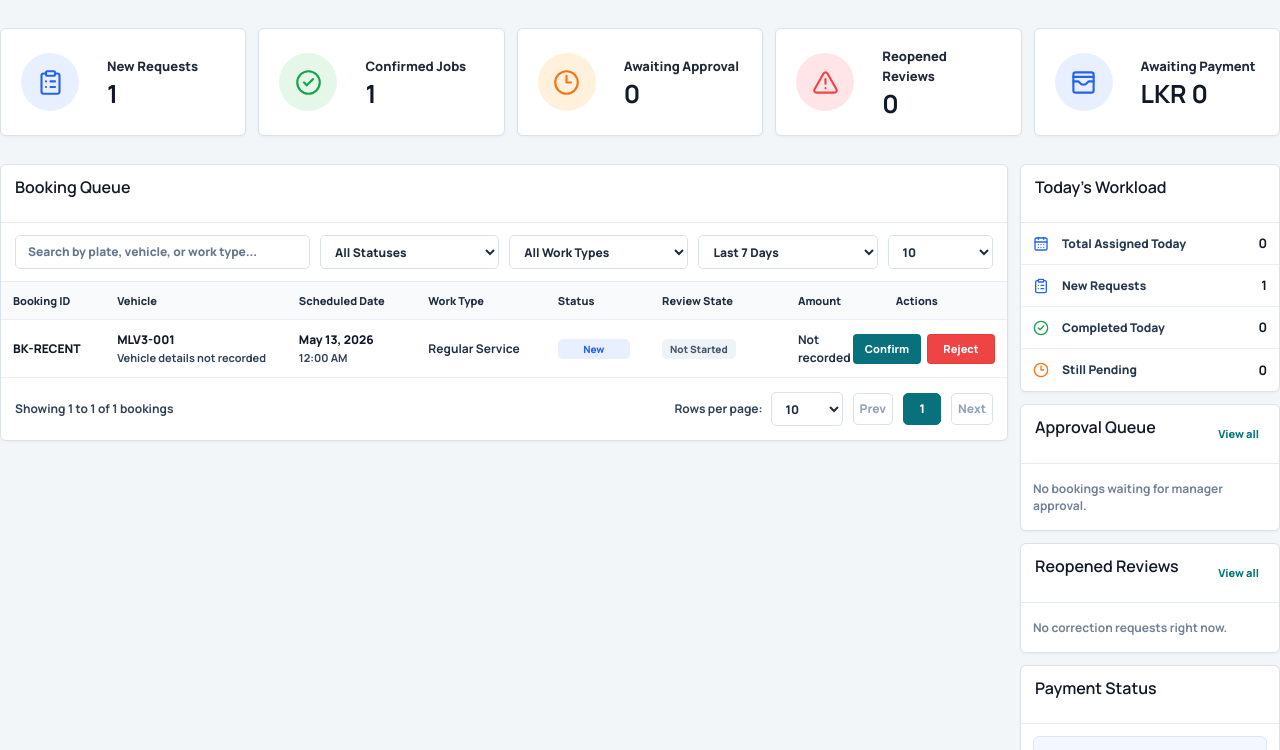
Test: ServicePortal booking filters › defaults to last 7 days and expands to last 30 days
Expected: the text "MLV3-001" is shown, x1=117 y1=331 x2=175 y2=348
Expected: the text "MLV3-020" is not shown
Select "Last 30 Days" in the 3rd dropdown named "Date Range": (788, 252) x1=698 y1=235 x2=878 y2=269
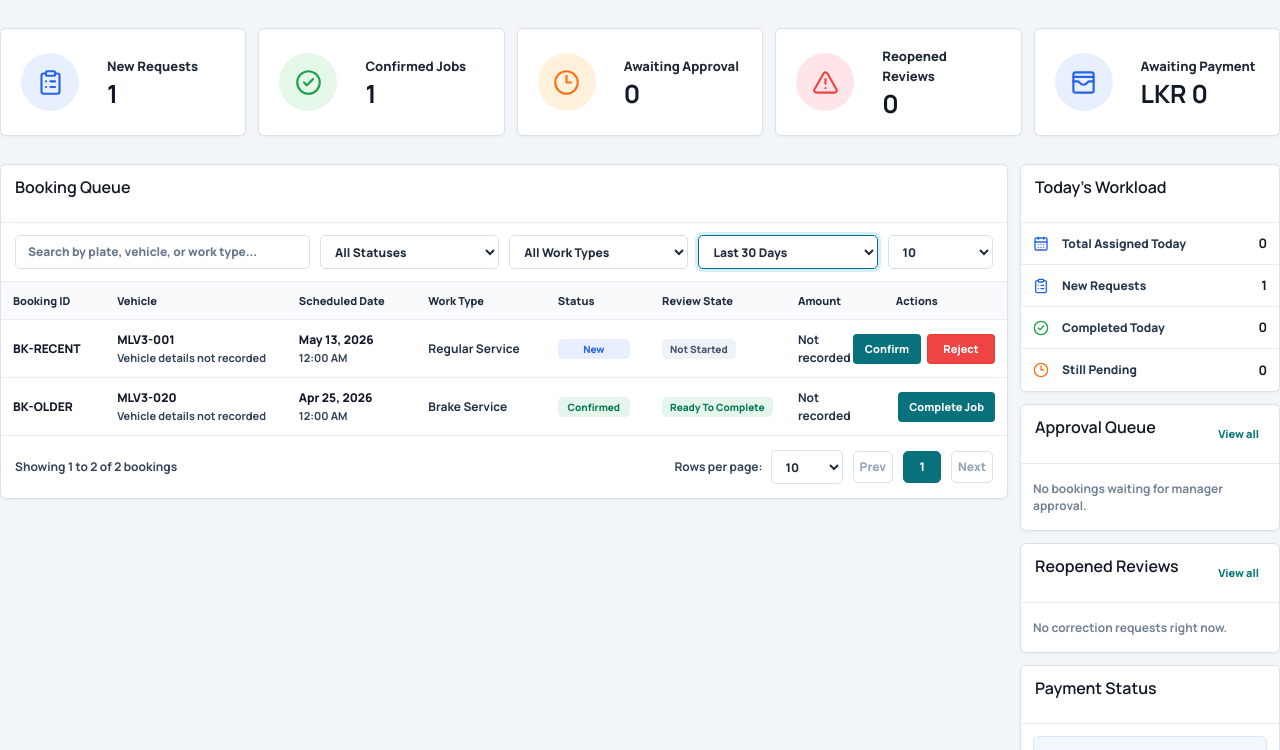
Result: the text "MLV3-020" is shown at x1=117 y1=389 x2=176 y2=406
